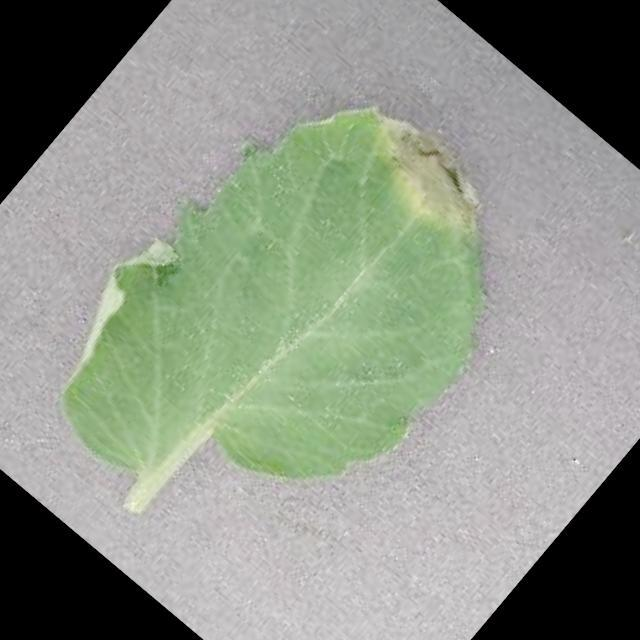Tomato late blight leaf: (11, 32, 568, 606)
